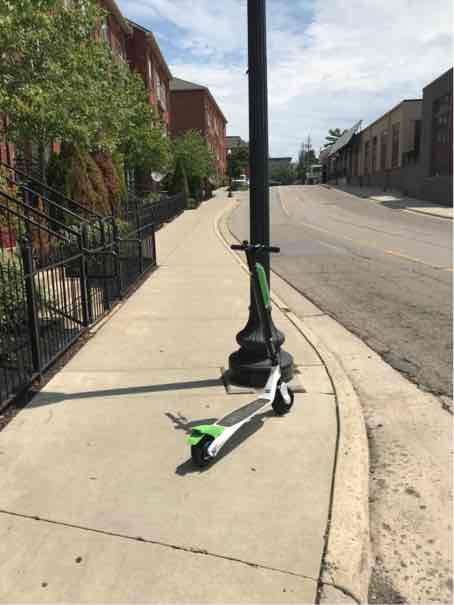scooter: (180, 230, 301, 473)
